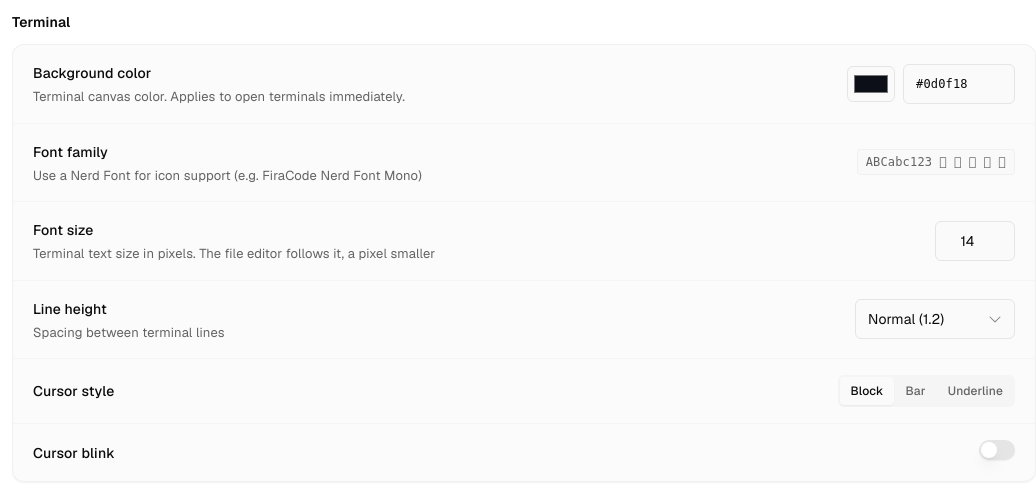
Test: TerminalAppearanceCard › font size › clamps an out-of-range value when the field loses focus
This screenshot has width=1036, height=499.
Click the number field labelled "Font size" at (975, 241), box [935,221,1015,261]
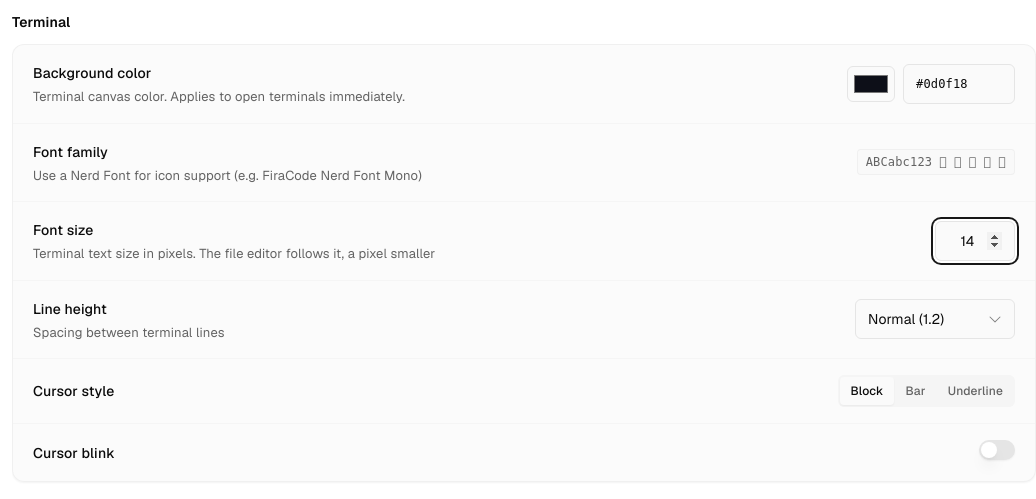
Type keys "40"
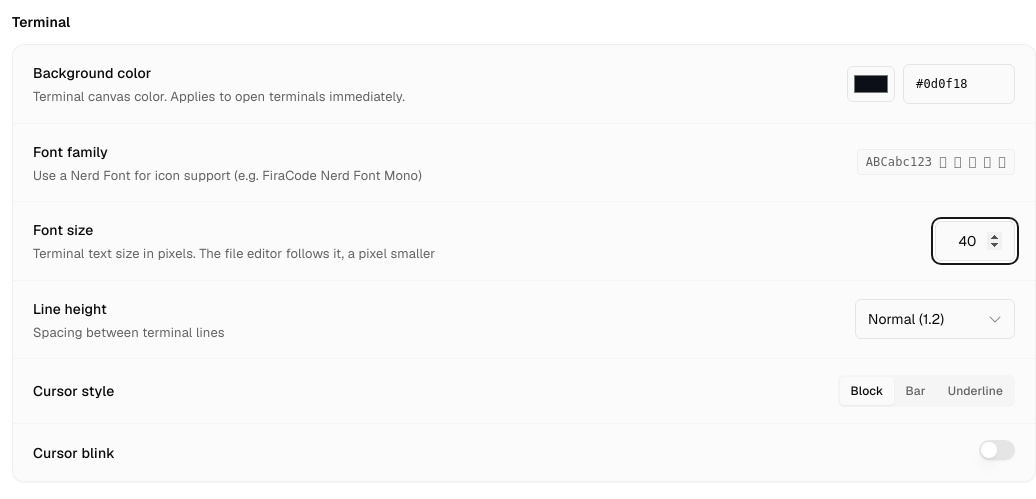
Press Tab
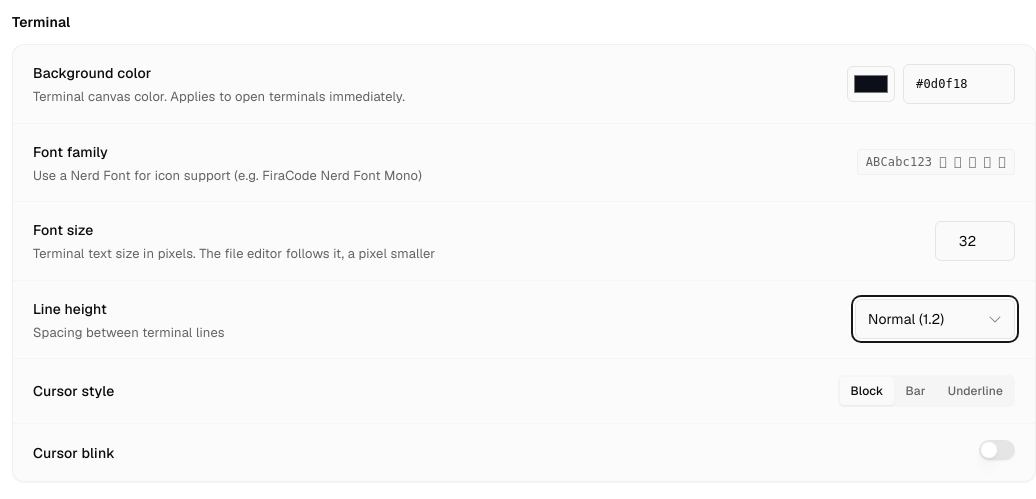
Check: the number field labelled "Font size" holds "32", box [935,221,1015,261]
